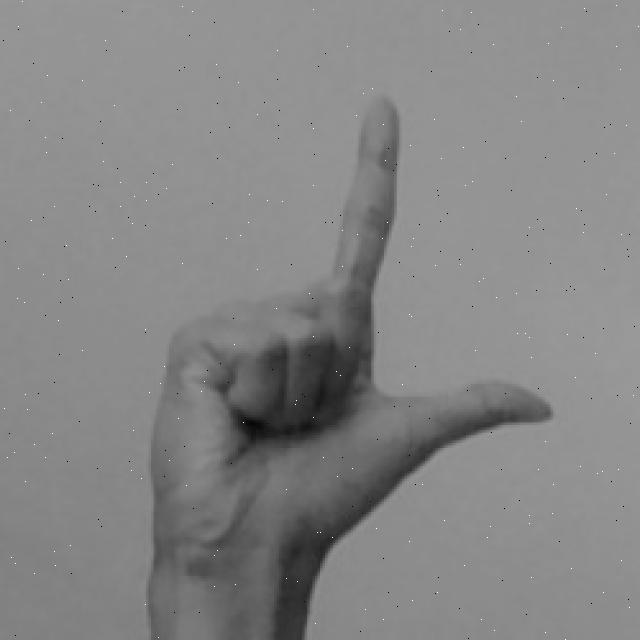L: (136, 86, 560, 640)
